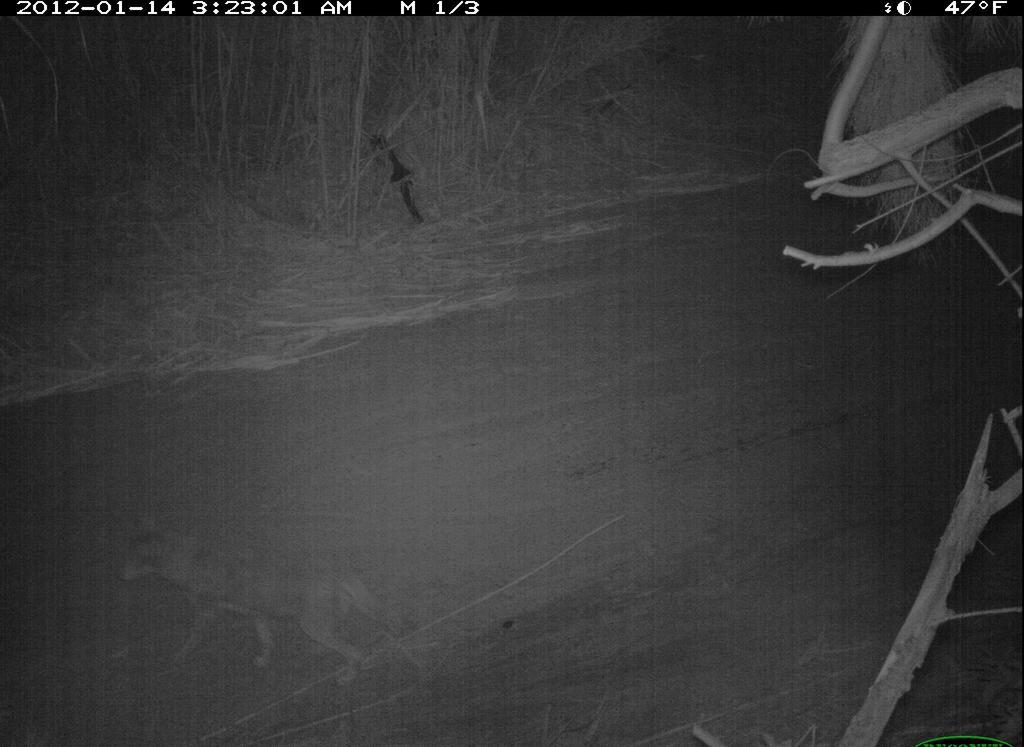coyote: (116, 511, 418, 693)
